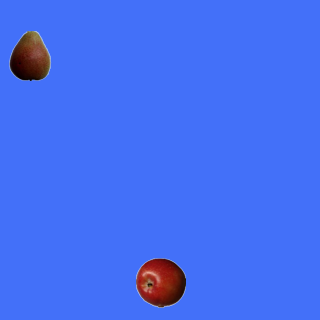Apple Braeburn: (135, 257, 185, 307)
Pear Forelle: (4, 30, 54, 80)
